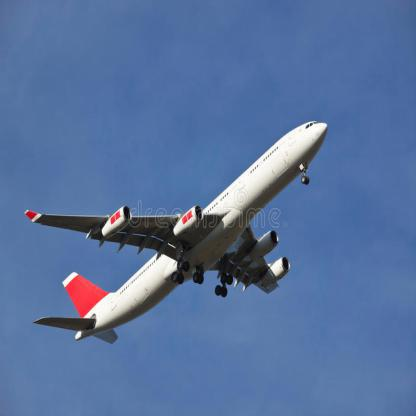CIV_Plane: (20, 118, 328, 350)
